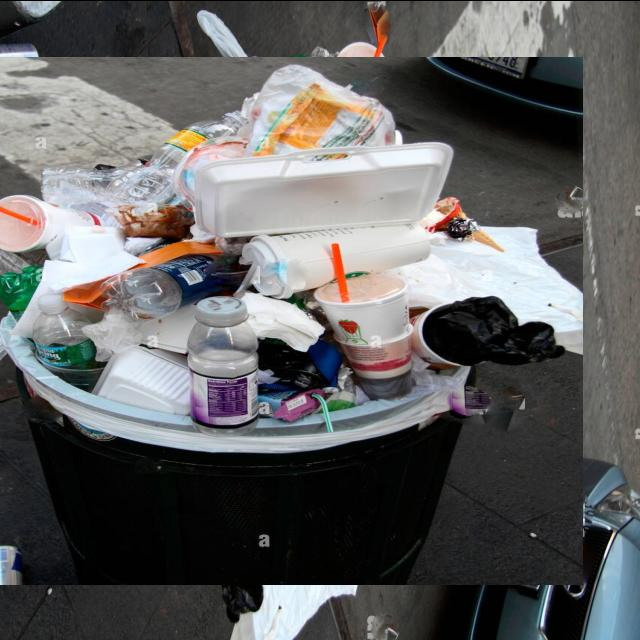garbage: (0, 28, 556, 612)
